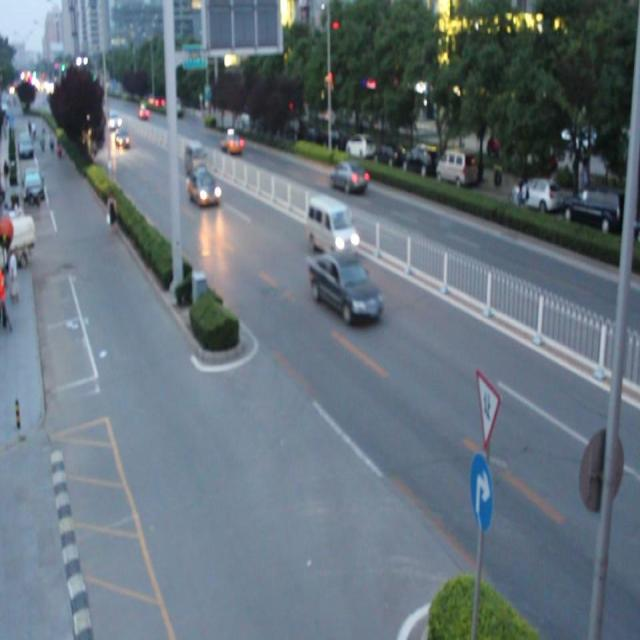car: (310, 250, 382, 326), (328, 158, 366, 192), (187, 172, 218, 204), (218, 126, 244, 156)
truck: (307, 196, 360, 256), (185, 142, 206, 174)
